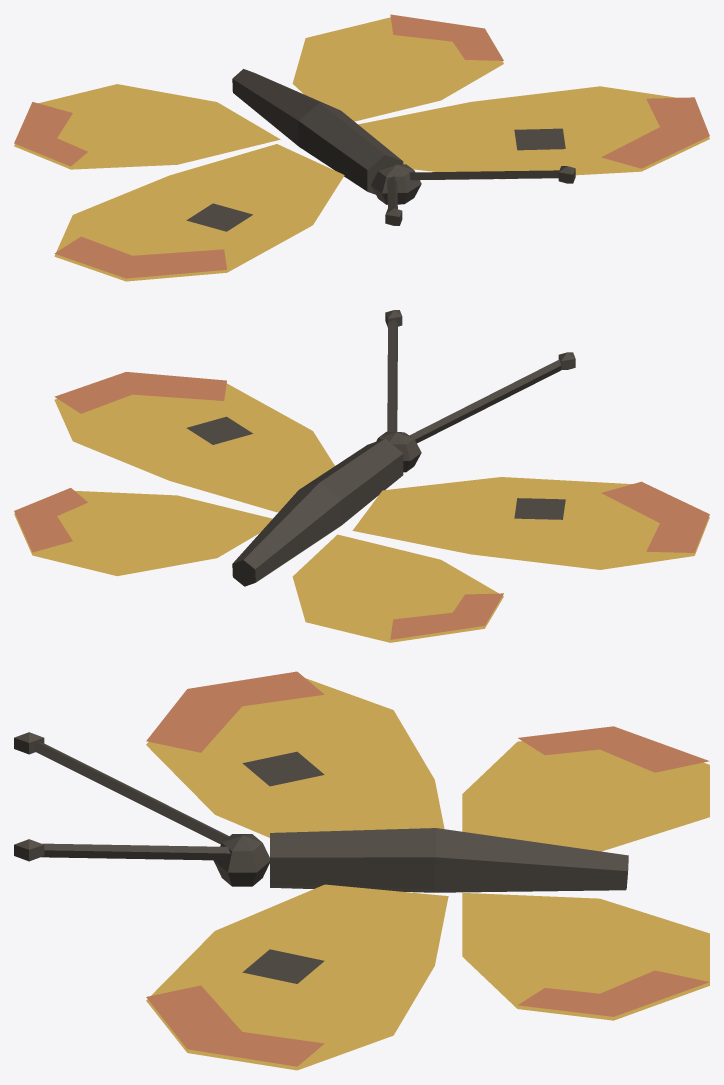
The model's file is butterfly.glb.
3 renders of one model, top to bottom at view 1: azimuth 30°, elevation 25°; view 2: azimuth 150°, elevation 25°; view 3: azimuth 270°, elevation 25°, orthographic. The views are drawn at different scales.
Visible parts, largest first — view 1: wing_l_wing.001, wing_r_wing.001, body_mark, wing_l_edge, wing_r_edge, Fore_Spot.001, Fore_Spot; view 2: wing_l_wing.001, wing_r_wing.001, body_mark, wing_r_edge, wing_l_edge, Fore_Spot, Fore_Spot.001; view 3: wing_r_wing.001, wing_l_wing.001, body_mark, wing_l_edge, wing_r_edge, Fore_Spot, Fore_Spot.001.
Part boxes in pixels (box(x1,y1,x2,y2)): wing_l_wing.001: box(14, 84, 344, 281); wing_r_wing.001: box(292, 17, 709, 179); body_mark: box(232, 69, 575, 225); wing_l_edge: box(14, 102, 226, 278); wing_r_edge: box(390, 14, 709, 168); Fore_Spot.001: box(514, 128, 565, 150); Fore_Spot: box(186, 203, 252, 231); wing_l_wing.001: box(292, 477, 709, 642); wing_r_wing.001: box(14, 383, 334, 576); body_mark: box(232, 310, 575, 586); wing_r_edge: box(14, 372, 226, 552); wing_l_edge: box(390, 481, 709, 639); Fore_Spot: box(514, 498, 565, 519); Fore_Spot.001: box(186, 416, 252, 444); wing_r_wing.001: box(146, 884, 709, 1070); wing_l_wing.001: box(146, 678, 709, 851); body_mark: box(14, 732, 628, 892); wing_l_edge: box(146, 671, 709, 772); wing_r_edge: box(146, 970, 709, 1066); Fore_Spot: box(242, 751, 324, 786); Fore_Spot.001: box(242, 949, 324, 983).
Size of the model in its own units: 0.068 by 0.0086 by 0.0506.
